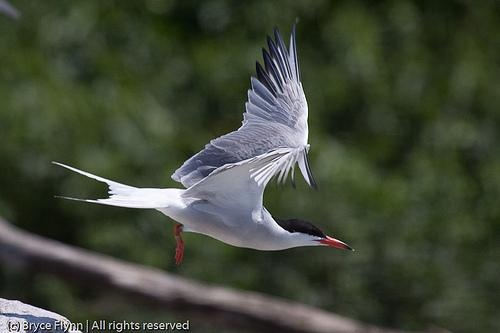bird: (49, 21, 357, 268)
